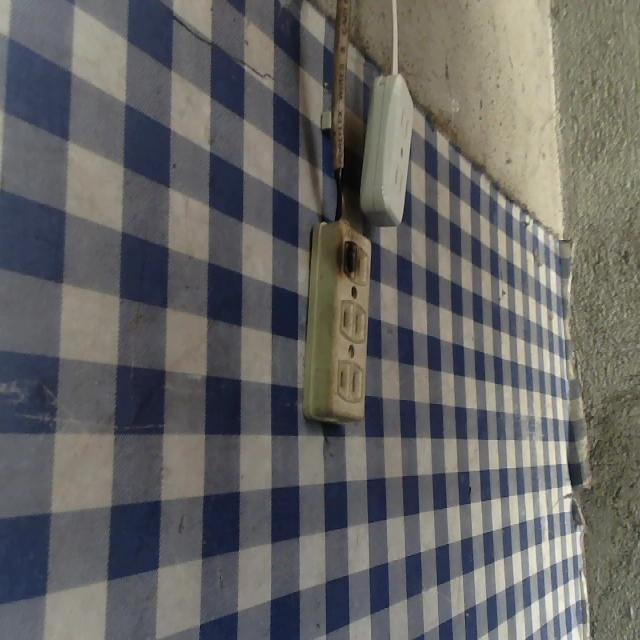-: (335, 231, 361, 285)
